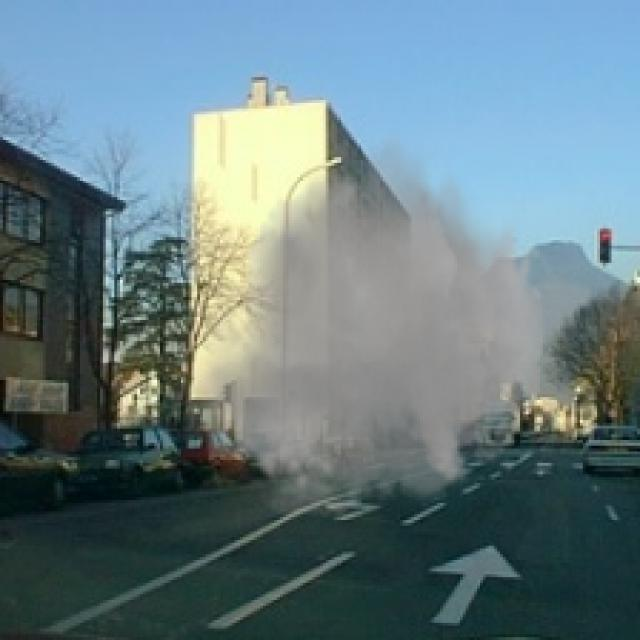smoke: (172, 123, 554, 534)
